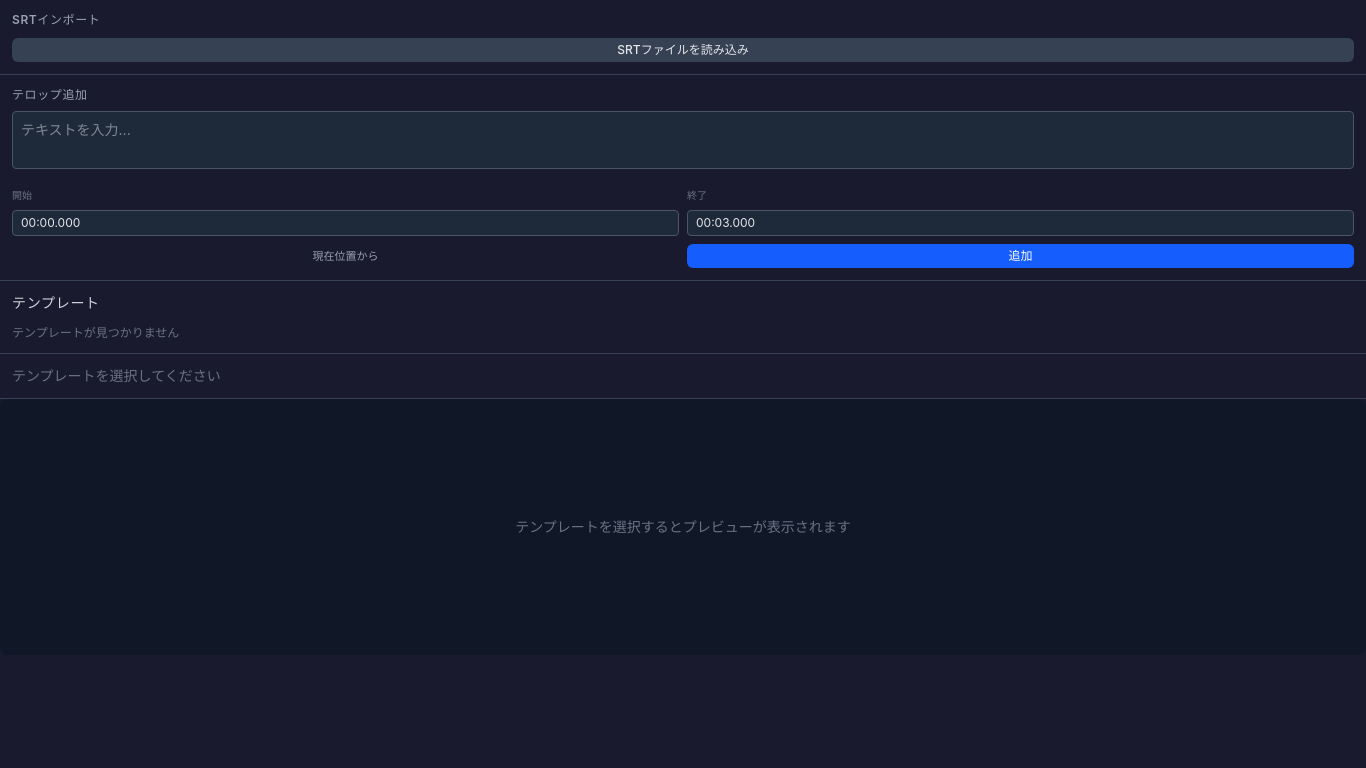
Test: TelopPanel › manual telop add › updates start/end time from current position
Click the button "現在位置から": click(346, 256) [12,244,679,268]
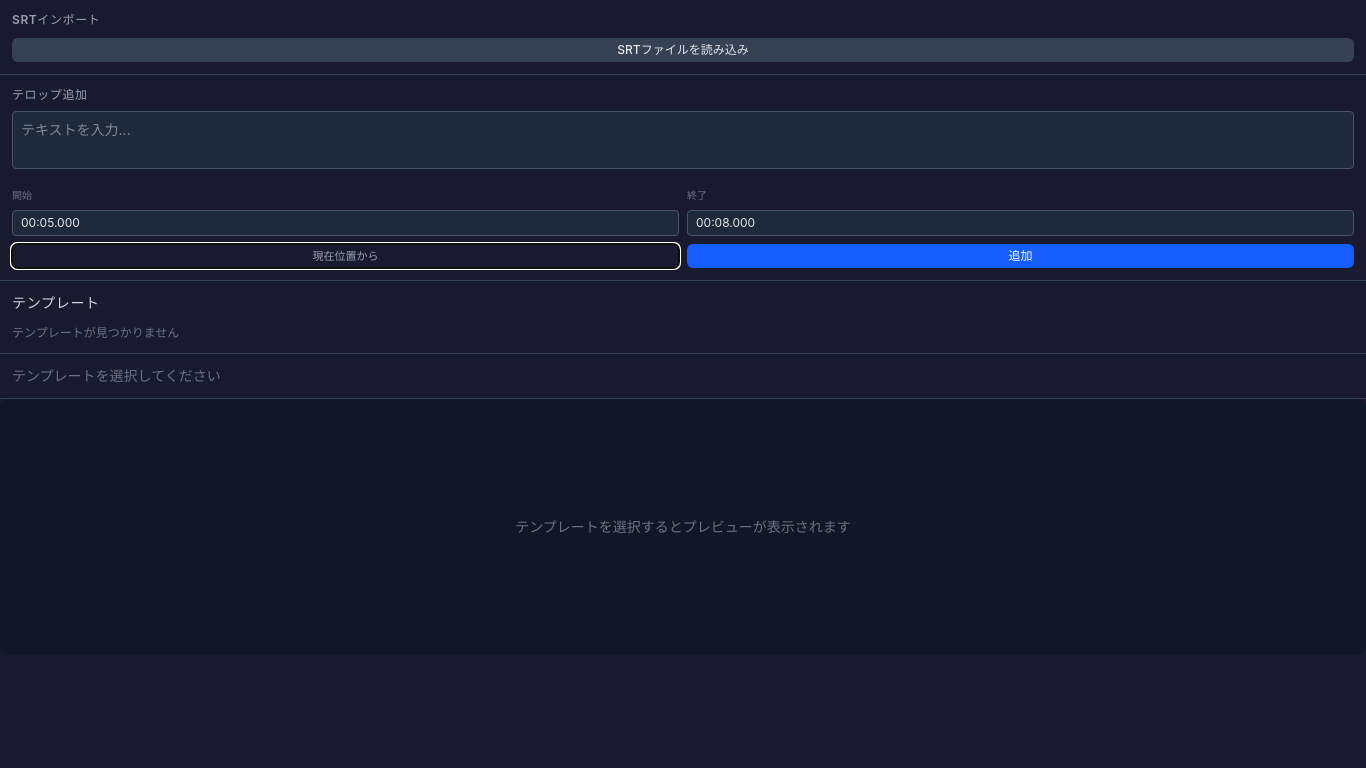
Expected: the field below "終了" holds "00:08.000", [687,210,1354,236]
Result: the field below "開始" holds "00:05.000" at [12,210,679,236]
